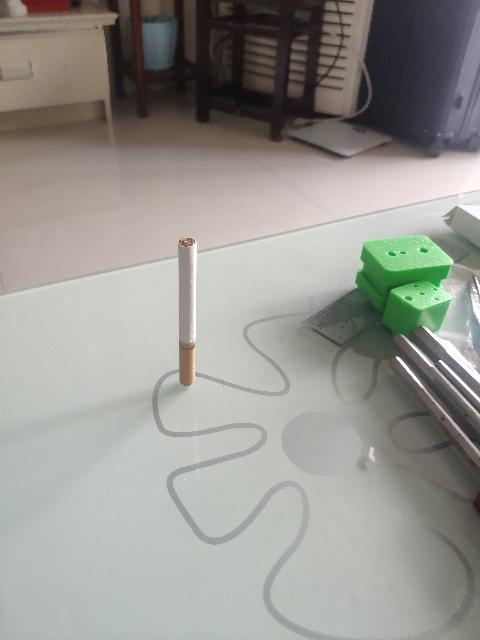Cigarette: (178, 238, 196, 386)
